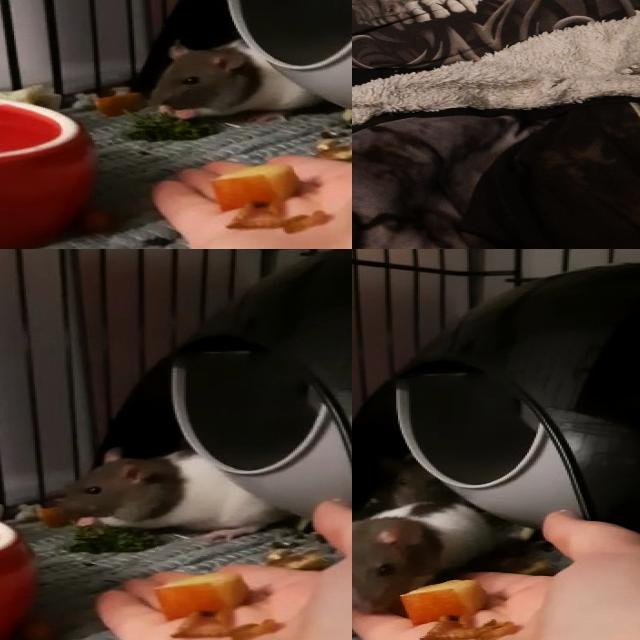rat: (43, 438, 299, 533), (352, 501, 526, 616), (149, 40, 317, 130), (378, 445, 467, 507)
